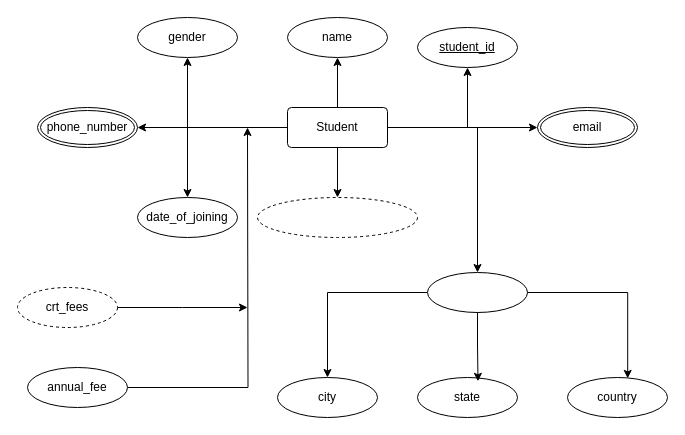
Image size: 685x435. Some labels were removed from this diagram. Each missing label, with the centre of its shape:
Address: the point at 477,292
years_spent_in_college: the point at 337,217
